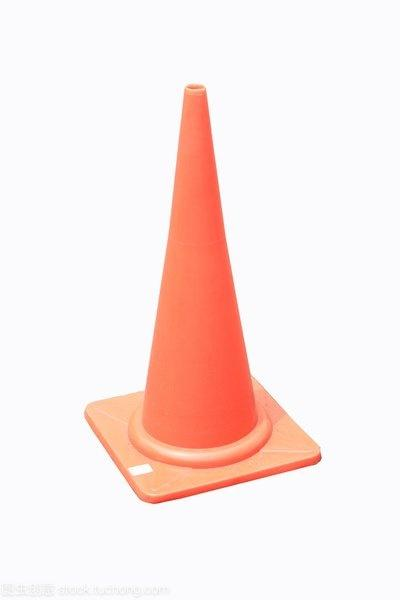cone_barrel: (121, 94, 272, 455)
